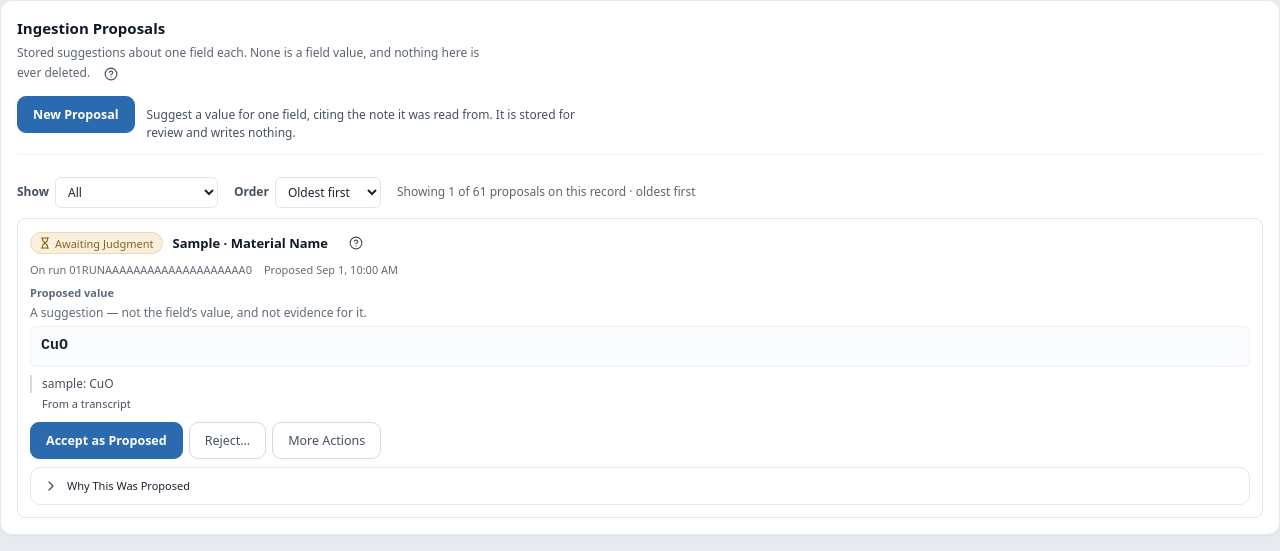
Test: the order control › states the order in the COUNT LINE, in both directions, and raises no second live region
Select "Newest first" in the dropdown labelled "Order". click: (328, 193)
box: [275,177,381,208]
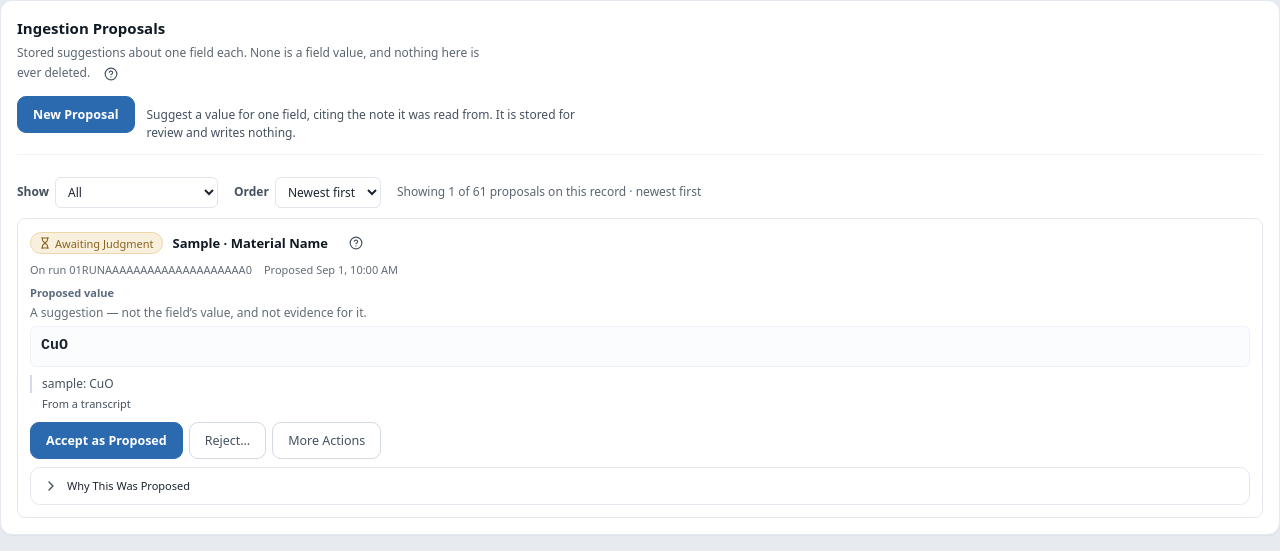
Check: the text "Showing 1 of 61 proposals on this record · newest first" is shown, box [397,184,701,202]
